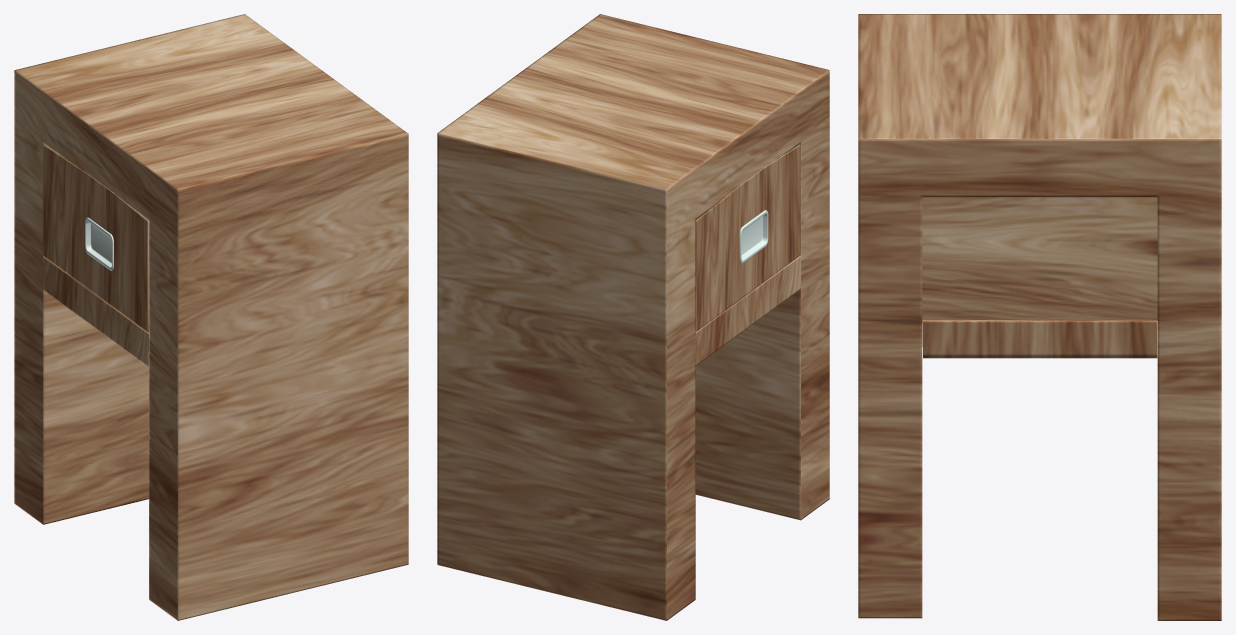
File: drawer_07.obj
The picture shows the model from 3 angles, left to right: view 1: azimuth 30°, elevation 25°; view 2: azimuth 150°, elevation 25°; view 3: azimuth 270°, elevation 25°; orthographic projection. The views are drawn at different scales.
Parts seen in each view (by area): view 1: drawer_07; view 2: drawer_07; view 3: drawer_07.
Boxes of the visible parts, x1,y1,x2,y2 form: drawer_07: (14, 14, 408, 620); drawer_07: (437, 14, 829, 620); drawer_07: (858, 14, 1221, 620).
Bounding box in the file's own units: 1.5 × 2.67 × 1.83.
